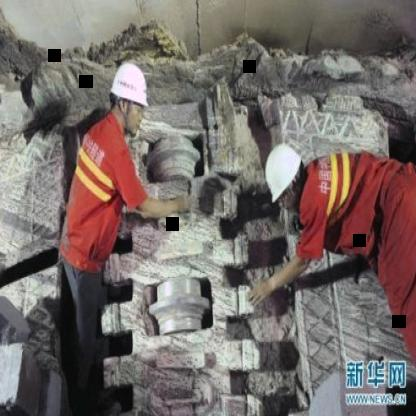helmet: (258, 139, 312, 226), (108, 58, 150, 136)
